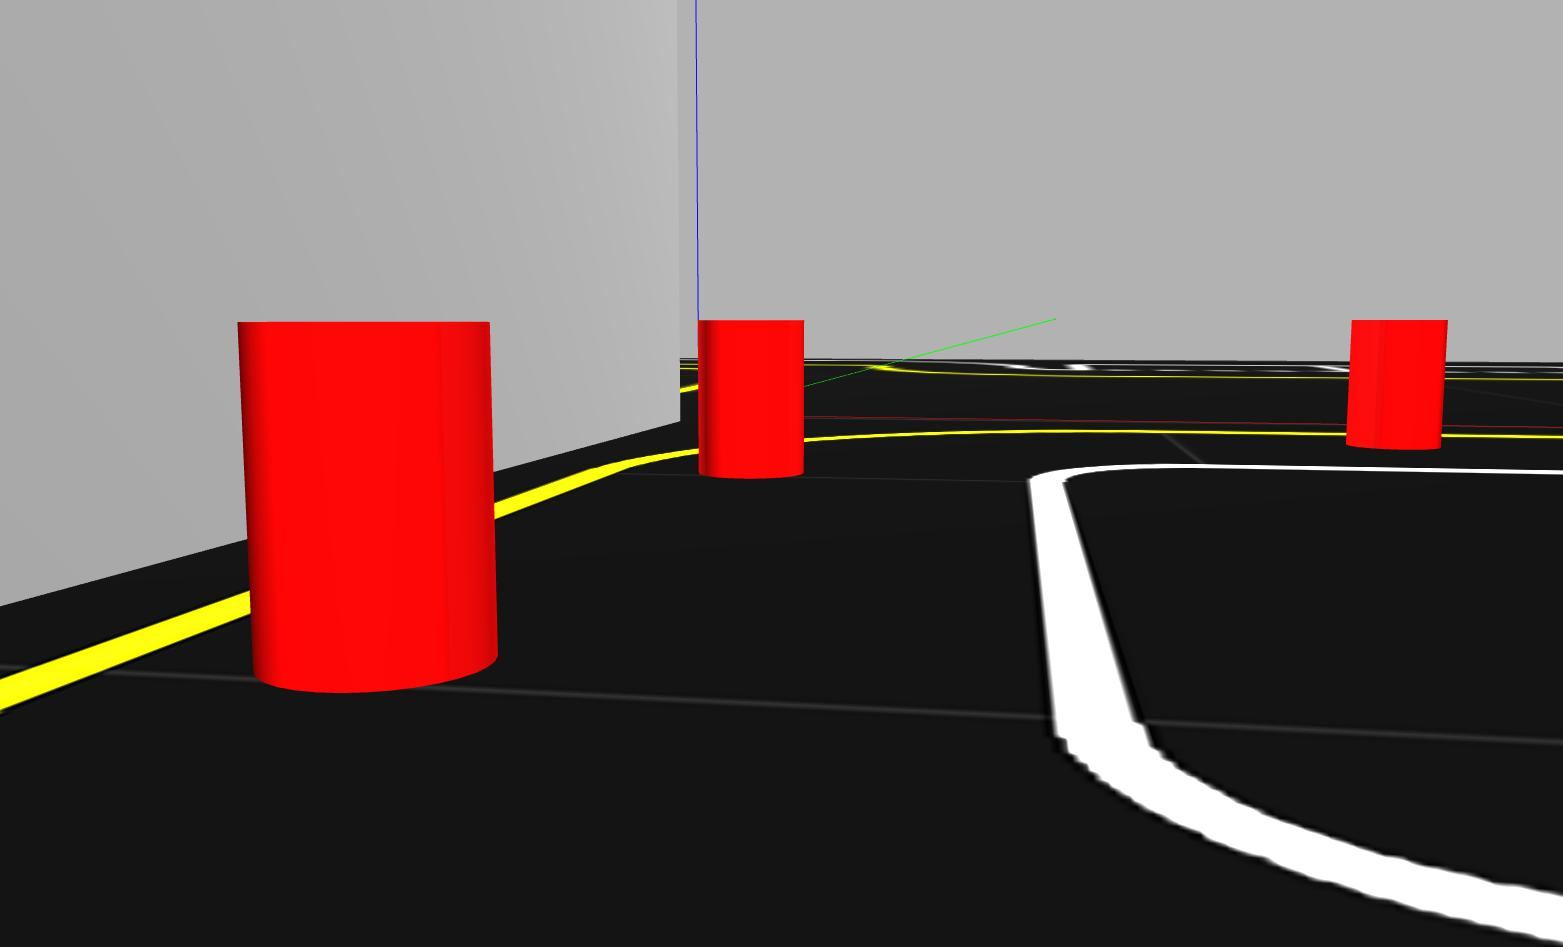obstacle: (231, 313, 506, 697), (693, 313, 807, 485), (1343, 315, 1450, 453)
